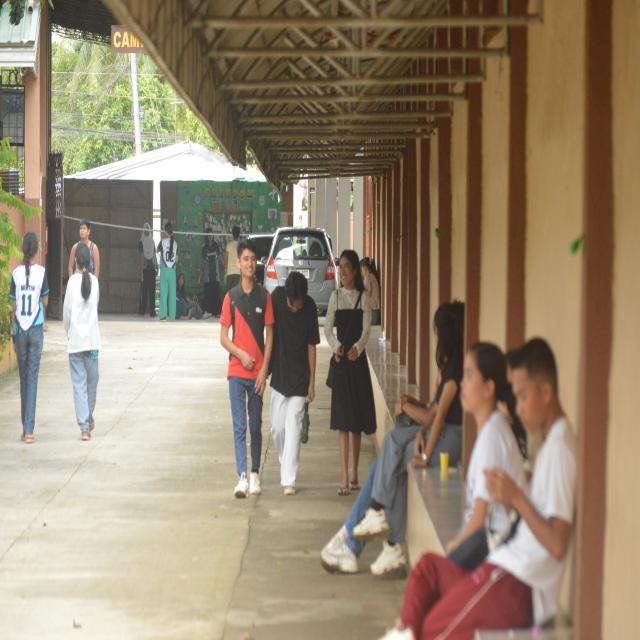person: (385, 339, 577, 639), (322, 303, 463, 575), (221, 240, 273, 497), (325, 250, 376, 495), (270, 271, 319, 495), (10, 232, 48, 443), (63, 245, 100, 440), (200, 228, 224, 317), (157, 223, 177, 321), (69, 219, 99, 277), (139, 223, 157, 317), (176, 273, 210, 319), (361, 258, 381, 325), (225, 226, 240, 292)
